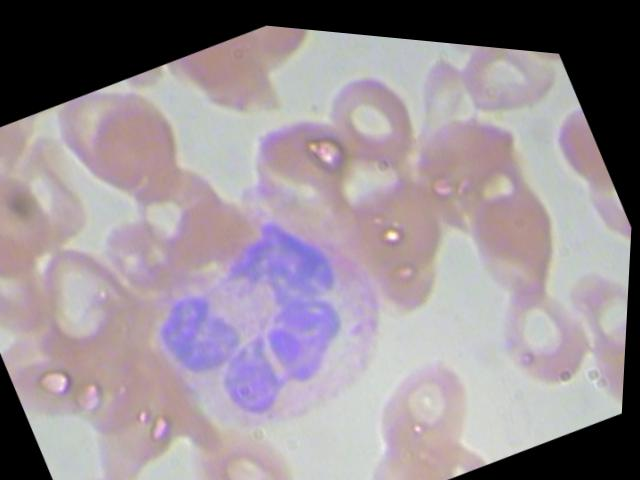Red Blood Cells: (12, 215, 161, 364), (393, 74, 542, 217), (443, 159, 588, 305), (470, 257, 614, 403), (356, 332, 500, 477), (226, 84, 370, 219), (162, 13, 306, 146), (306, 42, 439, 182), (332, 142, 464, 283), (67, 70, 199, 210), (0, 300, 128, 441), (114, 135, 243, 264), (0, 153, 78, 296), (182, 397, 311, 479), (442, 34, 564, 119), (557, 227, 632, 364), (579, 295, 629, 405), (64, 453, 186, 479)
White Blood Cells: (121, 167, 427, 470)
